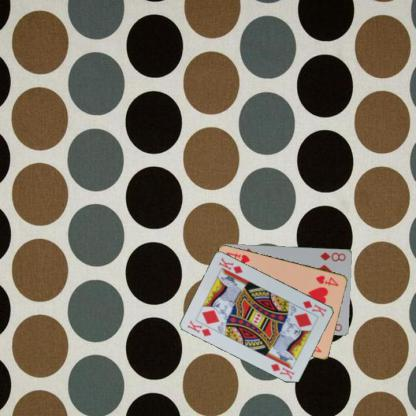4h: (313, 273, 340, 287)
8d: (318, 250, 347, 262)
Kd: (185, 318, 213, 338), (301, 298, 328, 318)
